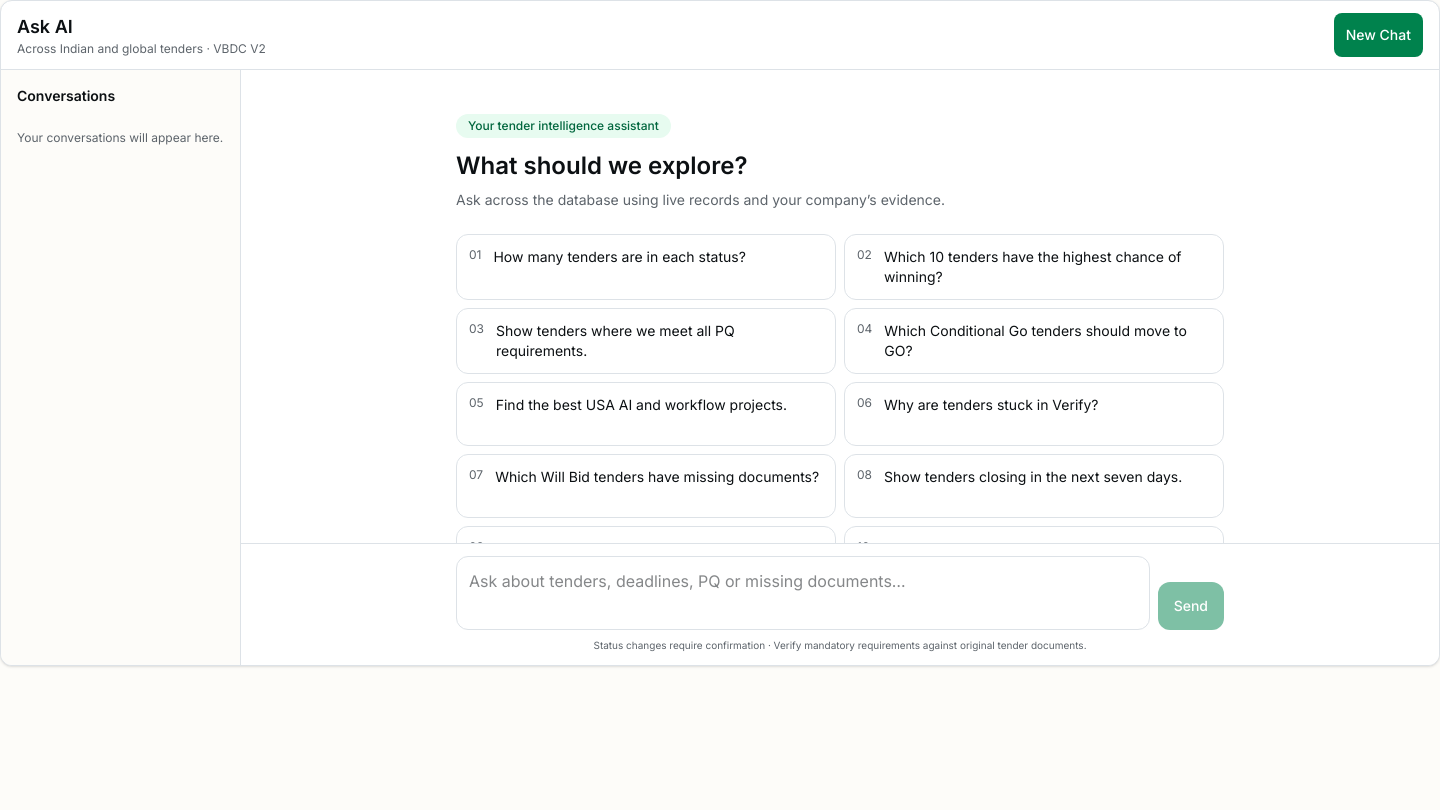
Test case: Global Ask AI › preserves the question on errors and offers sign-in on expired sessions
Click the button "Which 10 tenders have the highest chance of winning?" at (1034, 267), box [844,234,1224,300]
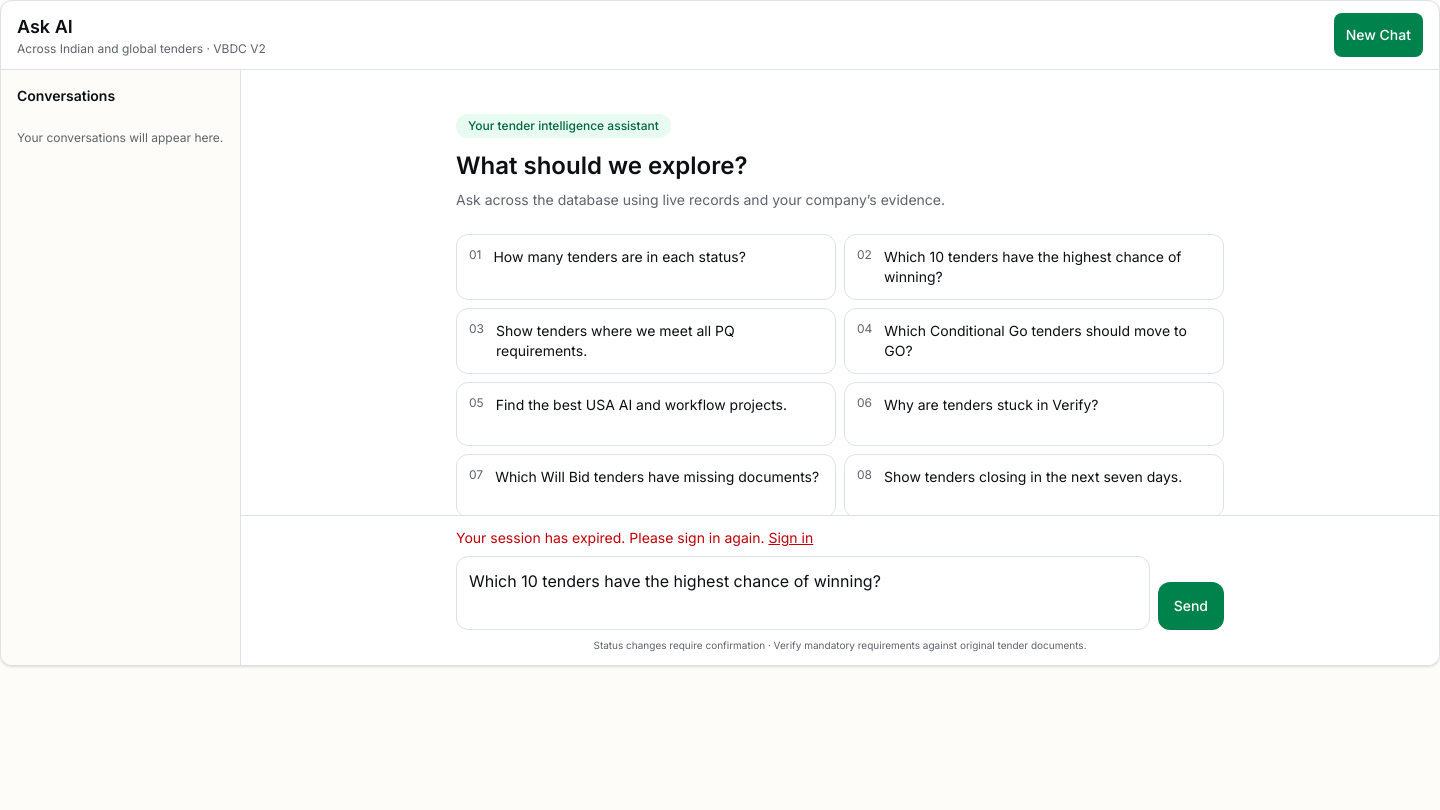
Expected: the message "Your session has expired. Please sign in again. Sign in" is shown, [456,529,813,546]
Expected: the text box holds "Which 10 tenders have the highest chance of winning?", [456,556,1150,630]
Expected: the link "Sign in" is shown, [768,529,813,546]
